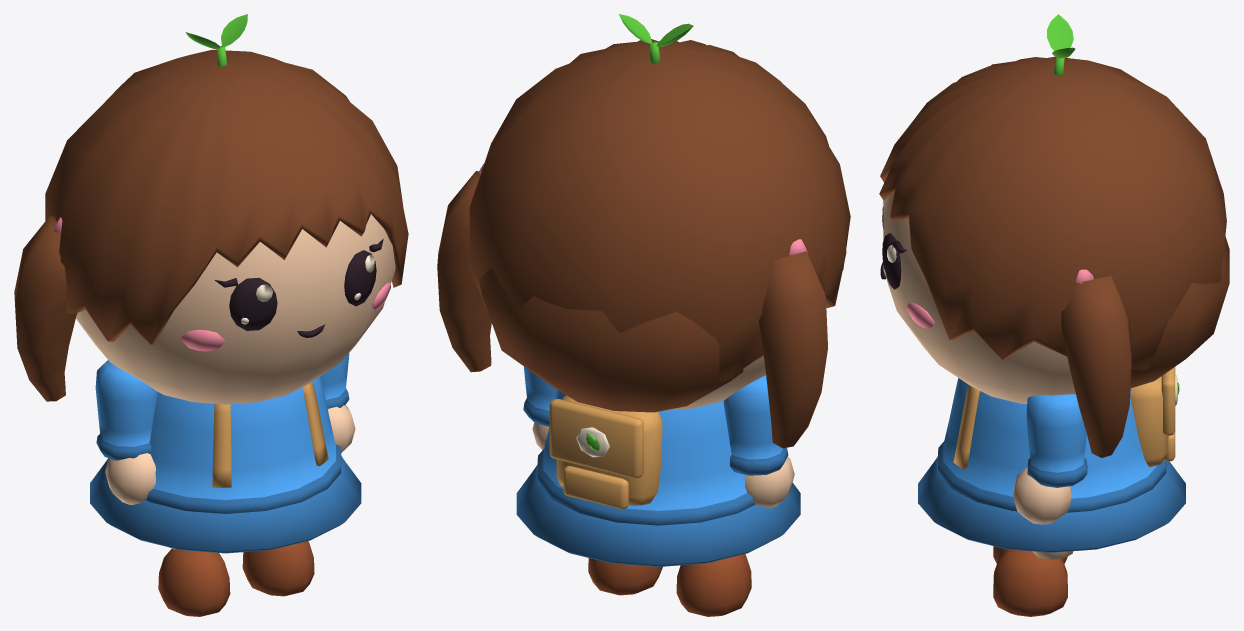
The model's file is hero-girl-tiny.glb.
3 renders of one model, left to right at view 1: azimuth 30°, elevation 25°; view 2: azimuth 150°, elevation 25°; view 3: azimuth 270°, elevation 25°, orthographic. The views are drawn at different scales.
Parts seen in each view (by area): view 1: head, body, arm-left, leg-left, leg-right, arm-right, head-leaf; view 2: head, body, arm-left, leg-left, leg-right, arm-right, head-leaf; view 3: head, body, arm-right, leg-right, head-leaf.
Boxes of the visible parts, x1,y1,x2,y2 form: head: (14,49,408,404); body: (90,376,361,553); arm-left: (95,360,157,504); leg-left: (158,547,230,616); leg-right: (242,541,314,596); arm-right: (320,353,355,452); head-leaf: (185,14,247,66); head: (437,39,850,448); body: (516,390,800,566); arm-left: (723,375,794,508); leg-left: (676,554,751,616); leg-right: (588,558,662,595); arm-right: (523,366,556,449); head-leaf: (619,14,693,63); head: (879,56,1229,457); body: (918,367,1185,552); arm-right: (1013,394,1087,524); leg-right: (993,549,1072,616); head-leaf: (1047,14,1075,75).
Size of the model in its own units: 1.59 by 2.3 by 1.31.
